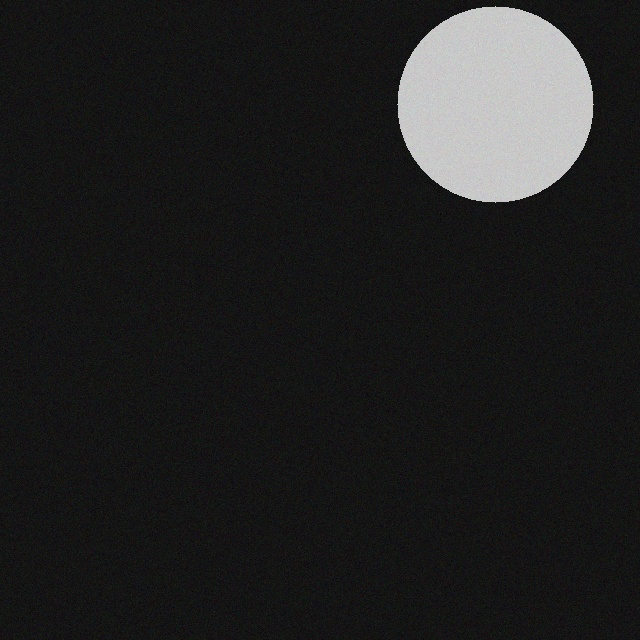circle: (398, 5, 594, 201)
